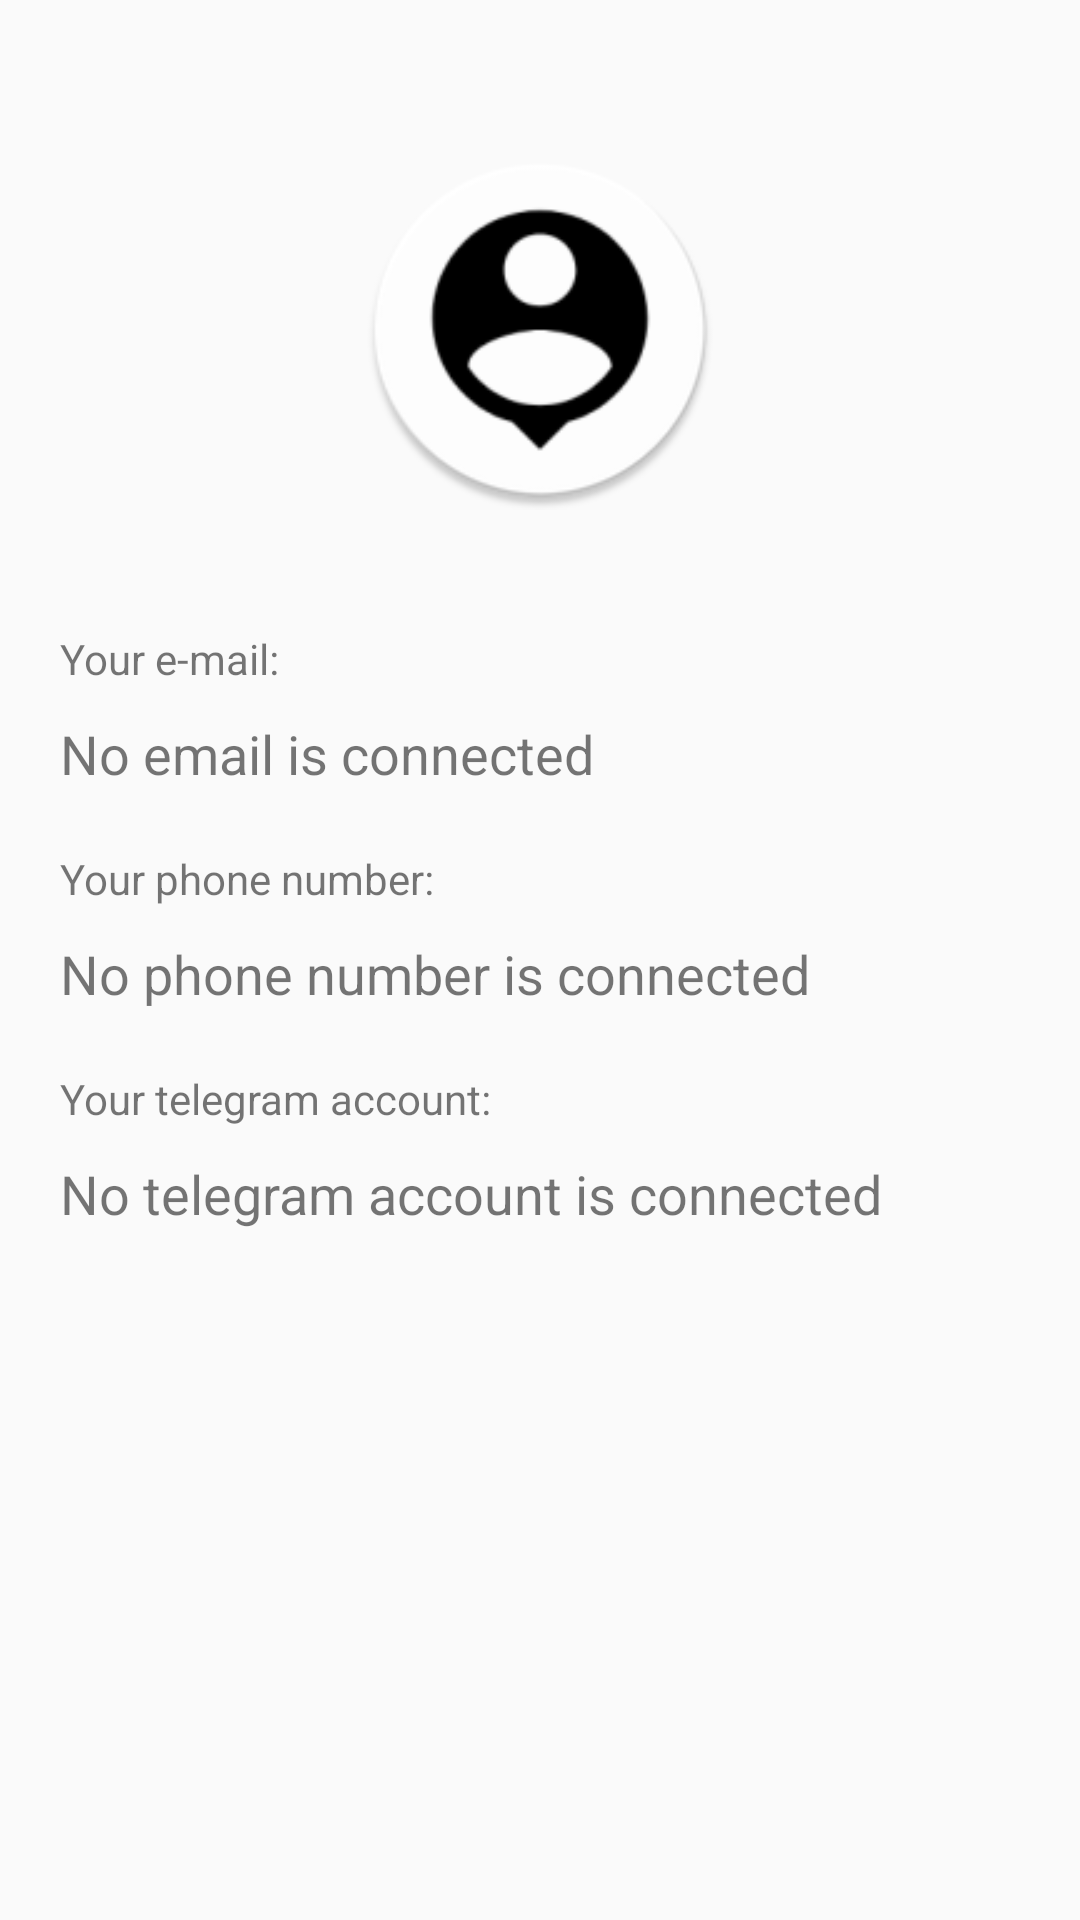

Named icons in this screenshot (1080*1920) and their centers, point (x, y):
profile round: point (542, 356)
